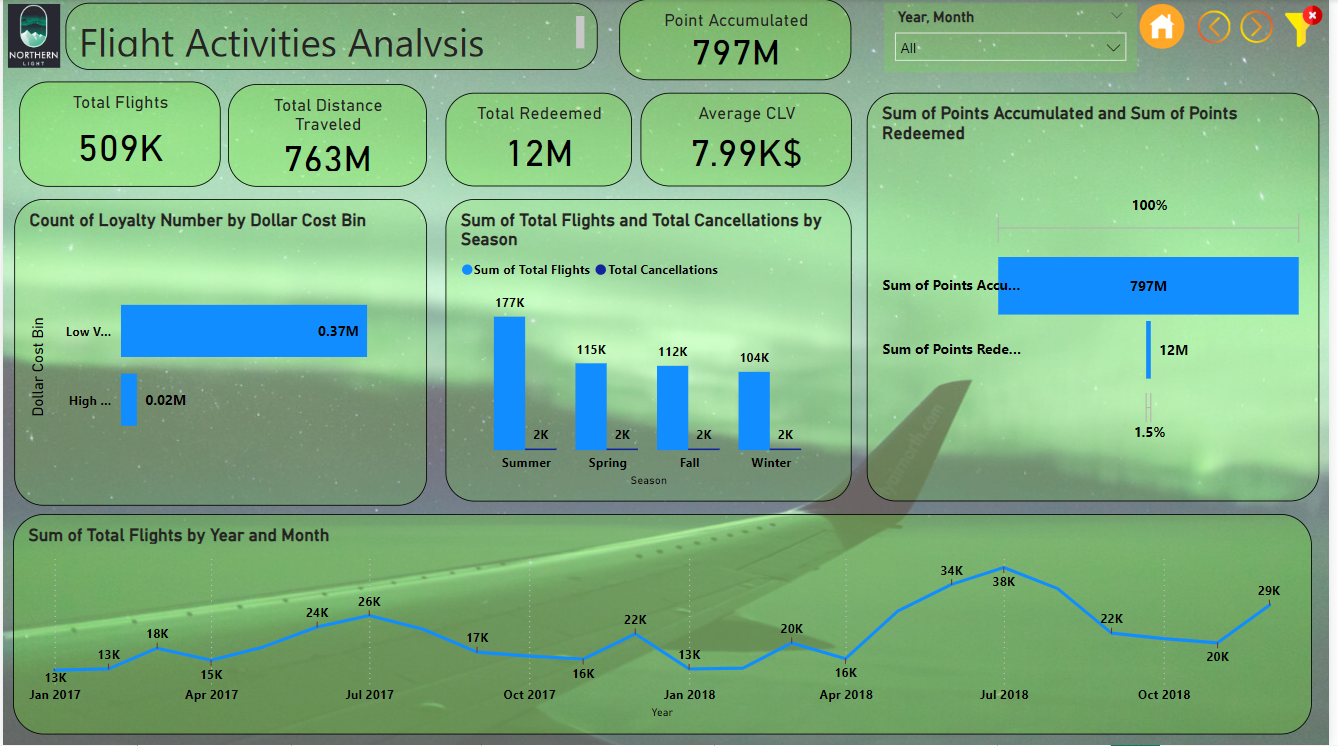

Layout of this report page (visuals, bound fields, positions):
{"tool":"powerbi","page":{"name":"Flight Activities Dashboard","canvas":[1280,720],"ordinal":2},"visuals":[{"type":"card","title":"Total Distance Traveled","fields":{"Values":["Sum(Customer Flight Activity.Distance)"]},"box":[217.2,82,191.8,98.9],"z":0},{"type":"card","title":"Total Flights","fields":{"Values":["Sum(Customer Flight Activity.Total Flights)"]},"box":[15.7,79.6,194.2,101.3],"z":1000},{"type":"lineChart","fields":{"Y":["Sum(Customer Flight Activity.Total Flights)"],"Category":["Calendar.Date.Variation.Date Hierarchy.Year","Calendar.Date.Variation.Date Hierarchy.Month"]},"box":[10,497.5,1253.8,212.5],"z":2000},{"type":"textbox","box":[60.3,3.6,513.9,65.1],"z":3000},{"type":"image","box":[0,0,60,71.2],"z":4000},{"type":"funnel","fields":{"Y":["Sum(Customer Flight Activity.Points Accumulated)","Sum(Customer Flight Activity.Points Redeemed)"]},"box":[833.7,90.5,436.7,394.5],"z":5000},{"type":"barChart","fields":{"Category":["Customer Flight Activity.Dollar Cost Bin"],"Y":["CountNonNull(Customer Flight Activity.Loyalty Number)"]},"box":[11.2,192.5,398.8,296.2],"z":6000},{"type":"card","title":"Point Accumulated","fields":{"Values":["Sum(Customer Flight Activity.Points Accumulated)"]},"box":[594.8,0,224.4,78.4],"z":7000},{"type":"slicer","fields":{"Values":["Calendar.Date.Variation.Date Hierarchy.Year","Calendar.Date.Variation.Date Hierarchy.Month"]},"box":[850.5,3.6,243.7,67.6],"z":8000},{"type":"clusteredColumnChart","fields":{"Category":["Customer Flight Activity.Season"],"Y":["Sum(Customer Flight Activity.Total Flights)","Measure_Table.Total Cancellations"]},"box":[427.1,193,392.1,292],"z":9000},{"type":"card","title":"Total Redeemed","fields":{"Values":["Sum(Customer Flight Activity.Points Redeemed)"]},"box":[427.1,90.5,179.8,90.5],"z":10000},{"type":"card","title":"Average CLV","fields":{"Values":["Avg(Customer Loyalty History.CLV)"]},"box":[615.3,90.5,203.9,90.5],"z":11000},{"type":"image","box":[1094.2,0,59.1,53.1],"z":12000},{"type":"image","box":[1164.2,0,51.9,53.1],"z":13000},{"type":"image","box":[1224.5,0,55.5,53.1],"z":14000}]}

Visuals, with their boxes in screenshot pixels (x1, y1, x2, y2), scaled from the page's 1280x720 canvas onto the 1338x746 screenshot:
"Total Distance Traveled" card: 227, 85, 428, 187
"Total Flights" card: 16, 82, 219, 187
lineChart - Sum(Customer Flight Activity.Total Flights) x Calendar.Date.Variation.Date Hierarchy.Year: 10, 515, 1321, 736
textbox: 63, 4, 600, 71
image: 0, 0, 63, 74
funnel - Sum(Customer Flight Activity.Points Accumulated) x Sum(Customer Flight Activity.Points Redeemed): 871, 94, 1328, 503
barChart - Customer Flight Activity.Dollar Cost Bin x CountNonNull(Customer Flight Activity.Loyalty Number): 12, 199, 429, 506
"Point Accumulated" card: 622, 0, 856, 81
slicer - Calendar.Date.Variation.Date Hierarchy.Year x Calendar.Date.Variation.Date Hierarchy.Month: 889, 4, 1144, 74
clusteredColumnChart - Customer Flight Activity.Season x Sum(Customer Flight Activity.Total Flights): 446, 200, 856, 503
"Total Redeemed" card: 446, 94, 634, 188
"Average CLV" card: 643, 94, 856, 188
image: 1144, 0, 1206, 55
image: 1217, 0, 1271, 55
image: 1280, 0, 1337, 55
